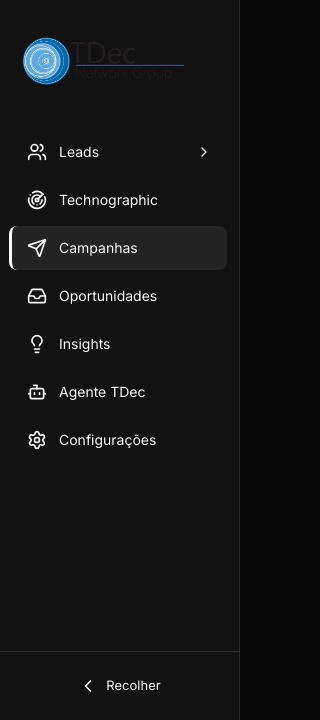
Test: Sidebar › Submenu - Leads Expandable (Story 4.2.3) › Task 1 - NavItem interface with subitems › should render subitems: Buscar and Meus Leads when expanded
# Click to expand Leads submenu
Click the button "Leads" at (116, 152), box [9,130,224,174]
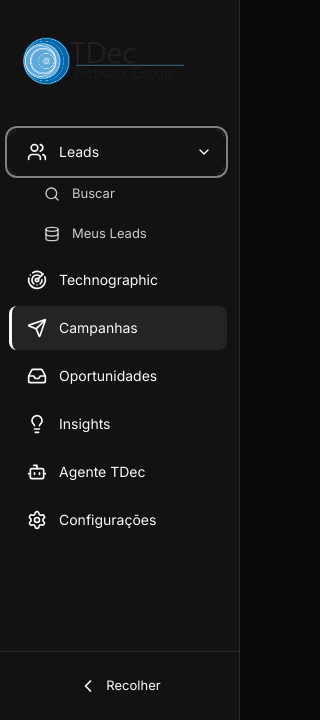
Now the menu item "Buscar" is shown, box [44,185,115,202]
Now the menu item "Meus Leads" is shown, box [44,225,147,242]
